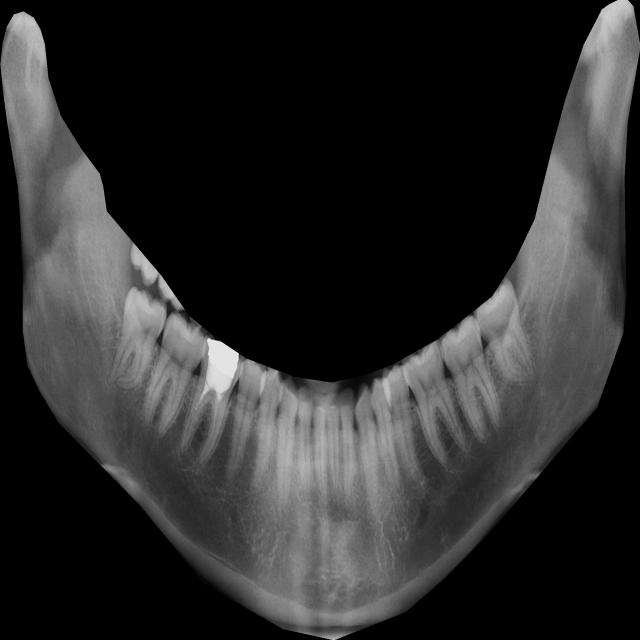mandibula: (0, 0, 640, 640)
